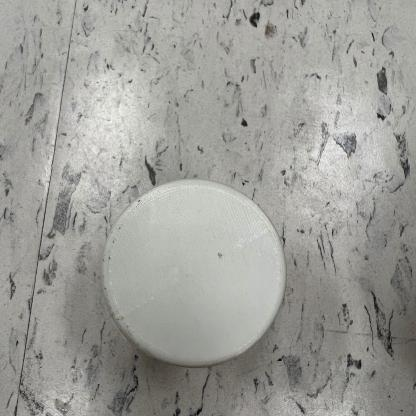white cylinder: (97, 174, 291, 371)
